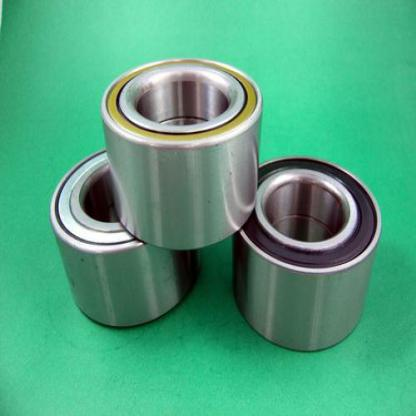FOD: (99, 54, 267, 254), (228, 152, 384, 357), (47, 146, 202, 334)
